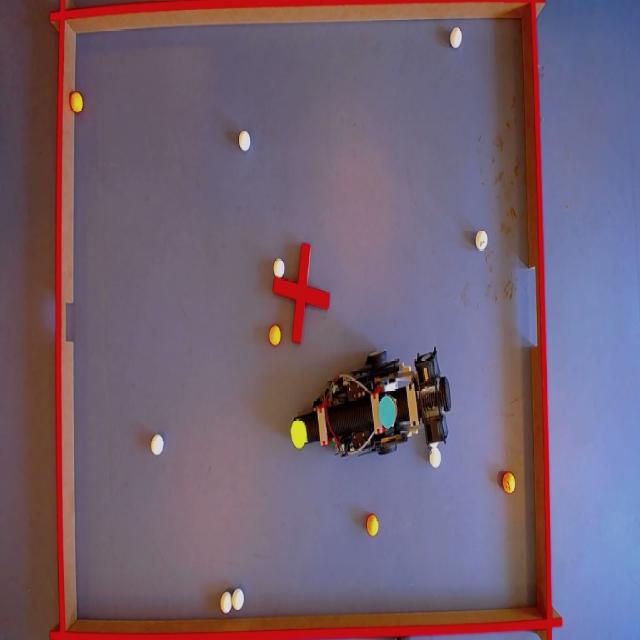orange: (366, 514, 382, 536), (70, 90, 84, 113), (500, 474, 516, 493), (268, 325, 281, 347)
robot: (290, 353, 459, 462)
robot-front: (290, 420, 309, 450)
robot-rear: (377, 393, 398, 431)
white: (231, 588, 245, 610), (152, 434, 165, 457), (449, 27, 462, 48), (220, 592, 233, 613), (273, 257, 285, 279), (238, 130, 250, 152), (475, 230, 488, 250), (429, 448, 442, 467)
